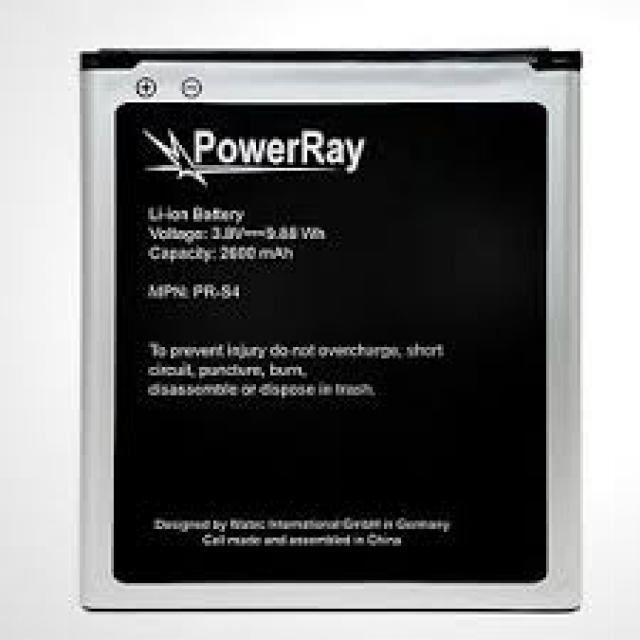non-organic waste: (73, 51, 592, 610)
